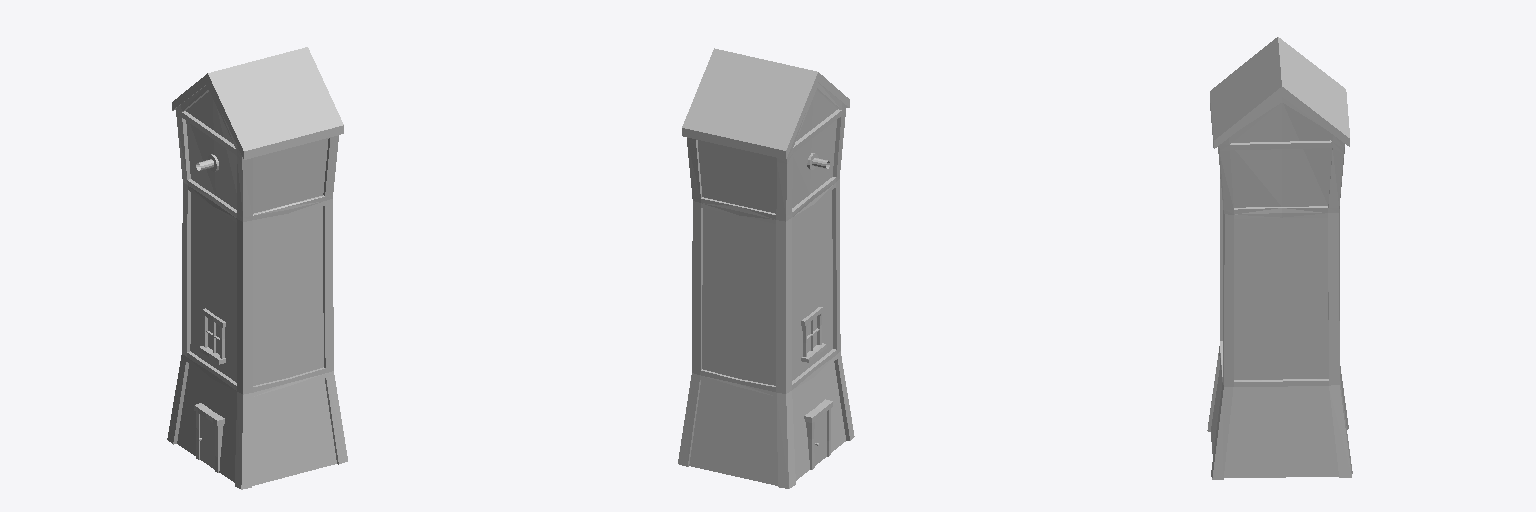
File: WINDMILL.obj
3 renders of one model, left to right at view 1: azimuth 30°, elevation 25°; view 2: azimuth 150°, elevation 25°; view 3: azimuth 270°, elevation 25°, orthographic.
Parts seen in each view (by area): view 1: Windmill; view 2: Windmill; view 3: Windmill.
Part boxes in pixels (bbox=[...]): Windmill: bbox=[167, 47, 347, 489]; Windmill: bbox=[678, 48, 854, 488]; Windmill: bbox=[1207, 37, 1352, 479].
Size of the model in its own units: 1.43 by 4.53 by 1.52.